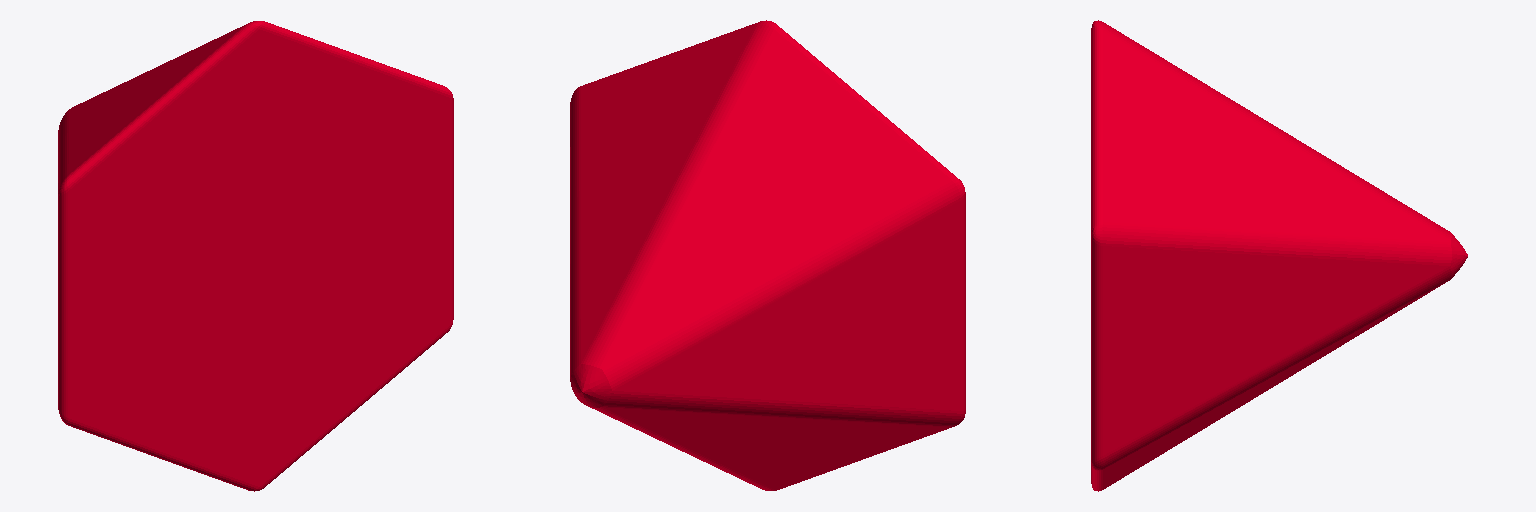
URDF robot description (hexagonal_pyramid.urdf):
<?xml version="1.0" ?>
<robot name="hexagonal_pyramid.urdf">

  <link name="hexagonal_pyramid">
    <contact>
    	<friction_anchor/>
    	   <lateral_friction value="1.0"/>
    </contact>
    <inertial>
      <origin rpy="0 0 0" xyz="0 0 0"/>
       <mass value=".1"/>
       <inertia ixx="1" ixy="0" ixz="0" iyy="1" iyz="0" izz="1"/>
    </inertial>
    <visual>
      <origin rpy="0 0 0" xyz="0 0 0"/>
      <geometry>
				<mesh filename="hexagonal_pyramid_rounded.obj" scale="1.0 1.0 1.0"/>
      </geometry>
       <material name="red">
        <color rgba="0.9 0 0.2 1.0"/>
      </material>
    </visual>
    <collision>
      <origin rpy="0 0 0" xyz="0 0 0"/>
      <geometry>
				<mesh filename="hexagonal_pyramid_rounded.obj" scale="1.0 1.0 1.0"/>
      </geometry>
    </collision>
  </link>


</robot>

--- Facts derived from the render (not from the file) ---
The picture shows the robot from 3 angles, left to right: view 1: azimuth 30°, elevation 25°; view 2: azimuth 150°, elevation 25°; view 3: azimuth 270°, elevation 25°; orthographic projection.
Model hexagonal_pyramid.urdf with 1 links and 0 joints (none), rooted at hexagonal_pyramid, posed all joints at 0.
Links seen in each view (by area): view 1: hexagonal_pyramid; view 2: hexagonal_pyramid; view 3: hexagonal_pyramid.
Link boxes in pixels (x1=…): hexagonal_pyramid: x1=58, y1=21, x2=453, y2=491; hexagonal_pyramid: x1=570, y1=20, x2=965, y2=490; hexagonal_pyramid: x1=1091, y1=20, x2=1467, y2=491.
Bounding box of the posed robot: 0.1142 × 0.0953 × 0.1302 m (x, y, z).
1 mesh visuals loaded from 1 distinct referenced files (1 OBJ).